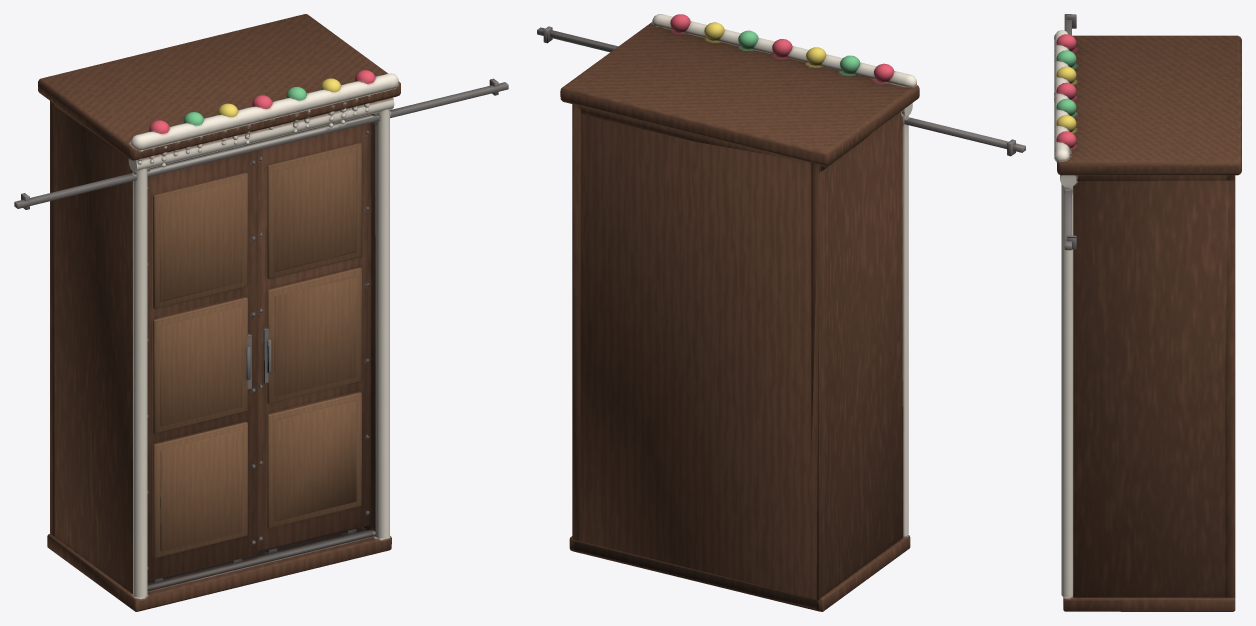
Rendered from SK_MonsterCloset.fbx.
3 views of the same model, side by side, from view 1: azimuth 30°, elevation 25°; view 2: azimuth 150°, elevation 25°; view 3: azimuth 270°, elevation 25° (orthographic). The views are drawn at different scales.
Parts seen in each view (by area): view 1: SK_MonsterCloset, Door_R, Door_L; view 2: SK_MonsterCloset; view 3: SK_MonsterCloset.
Boxes of the visible parts, box(x1,y1,x2,y2) form: SK_MonsterCloset: box(14, 14, 508, 611); Door_R: box(252, 115, 371, 554); Door_L: box(147, 146, 257, 582); SK_MonsterCloset: box(537, 14, 1025, 611); SK_MonsterCloset: box(1054, 14, 1241, 611).
Size of the model in its own units: 860 by 809 by 294.
